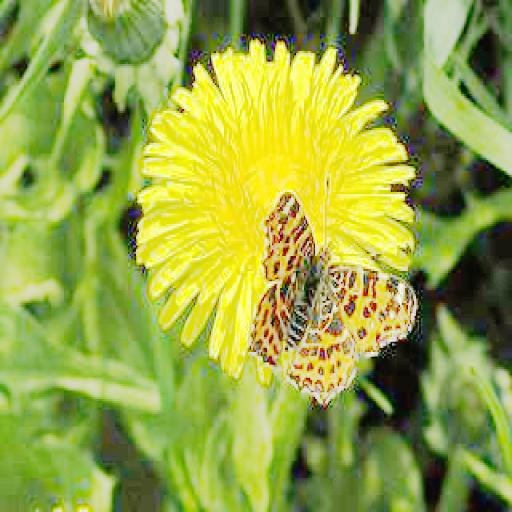dandelion: (148, 38, 410, 369)
